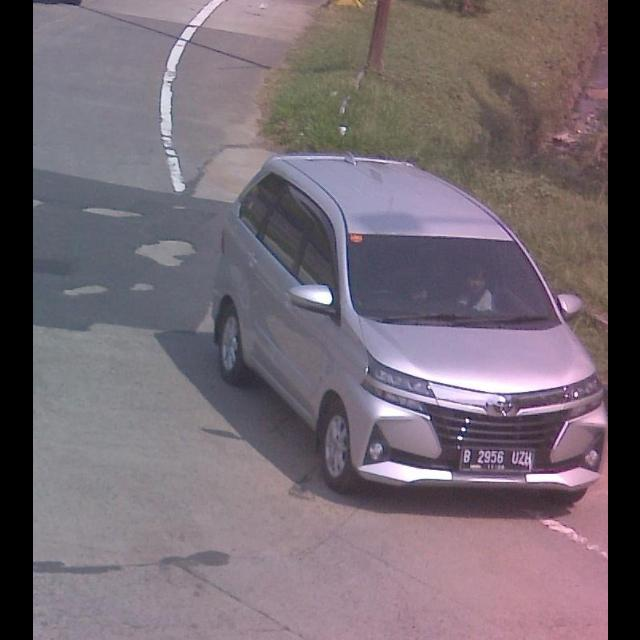plate: (461, 444, 534, 476)
